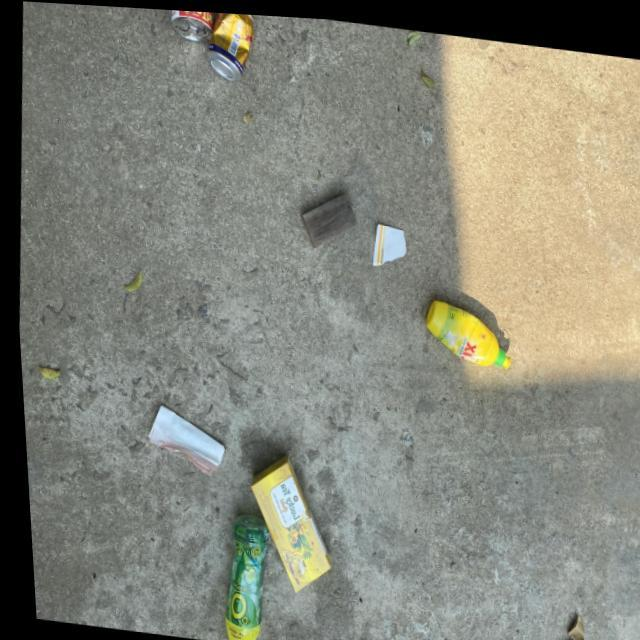clothes: (205, 9, 259, 86), (158, 8, 212, 50)
food: (130, 376, 227, 482), (358, 201, 408, 272)
leaf: (401, 289, 512, 371), (209, 503, 269, 640)
metal: (230, 416, 340, 601)
plastic bag: (272, 160, 368, 263)
